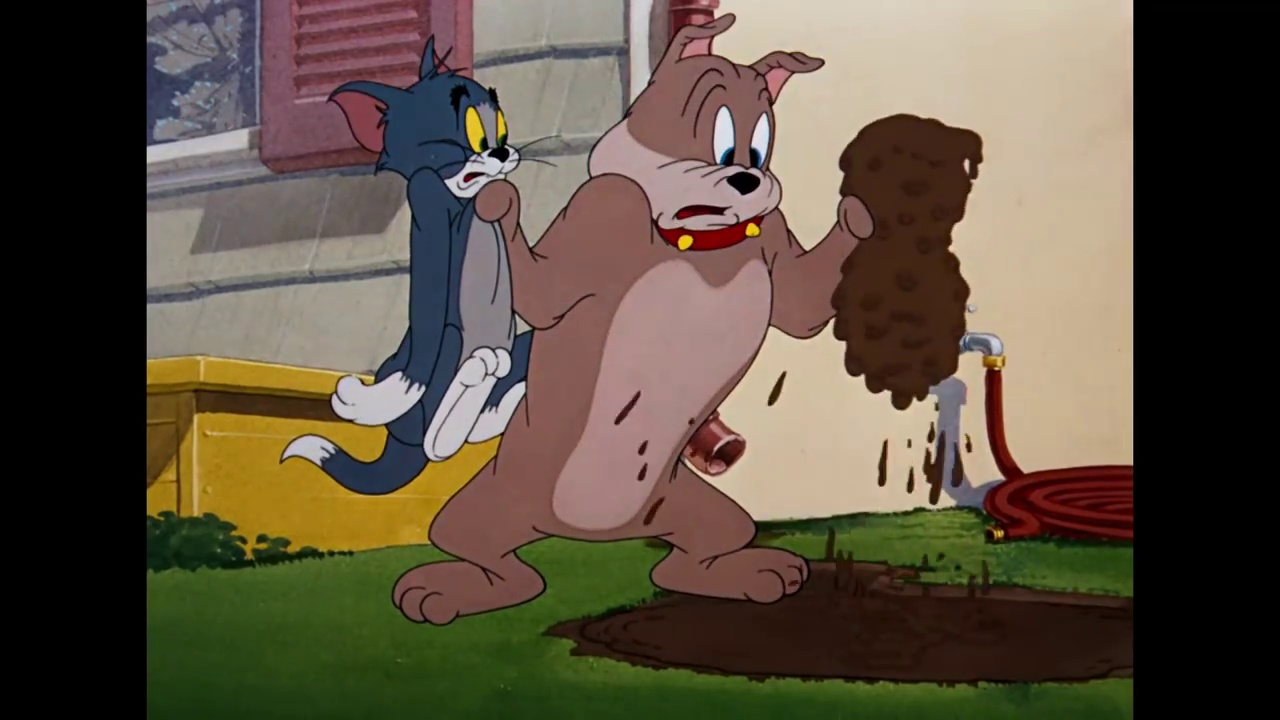spike: (586, 11, 828, 255)
tom: (328, 34, 563, 209)
